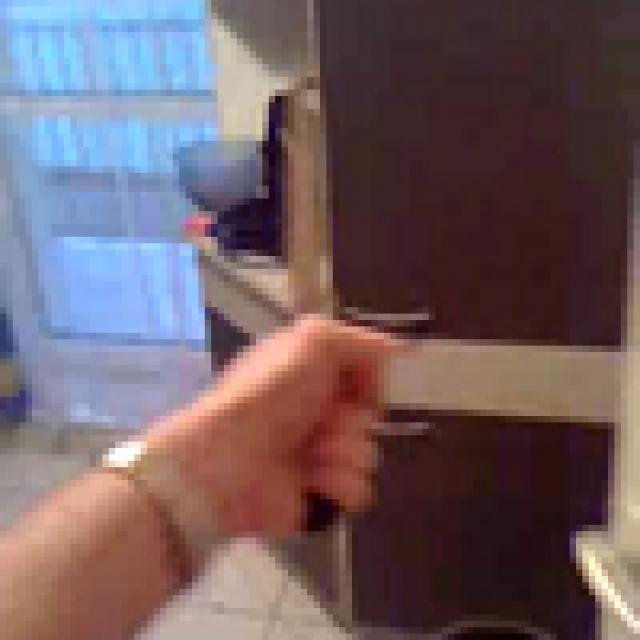knife: (216, 64, 421, 544)
